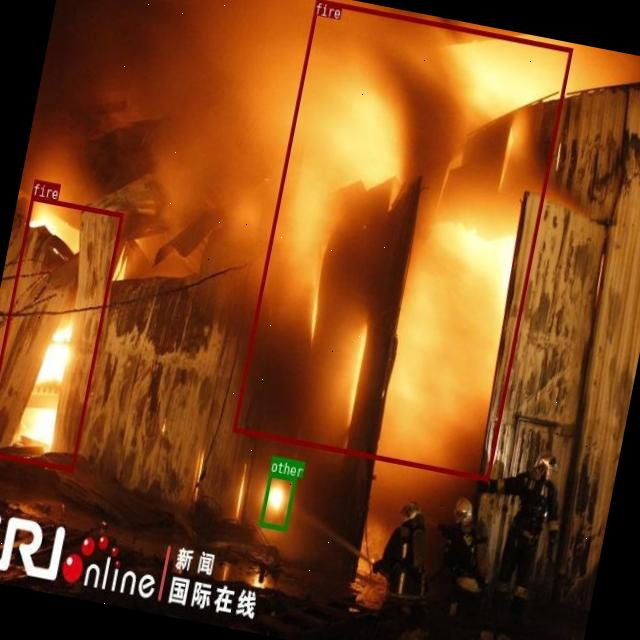fire: (232, 0, 573, 481), (0, 194, 124, 471)
